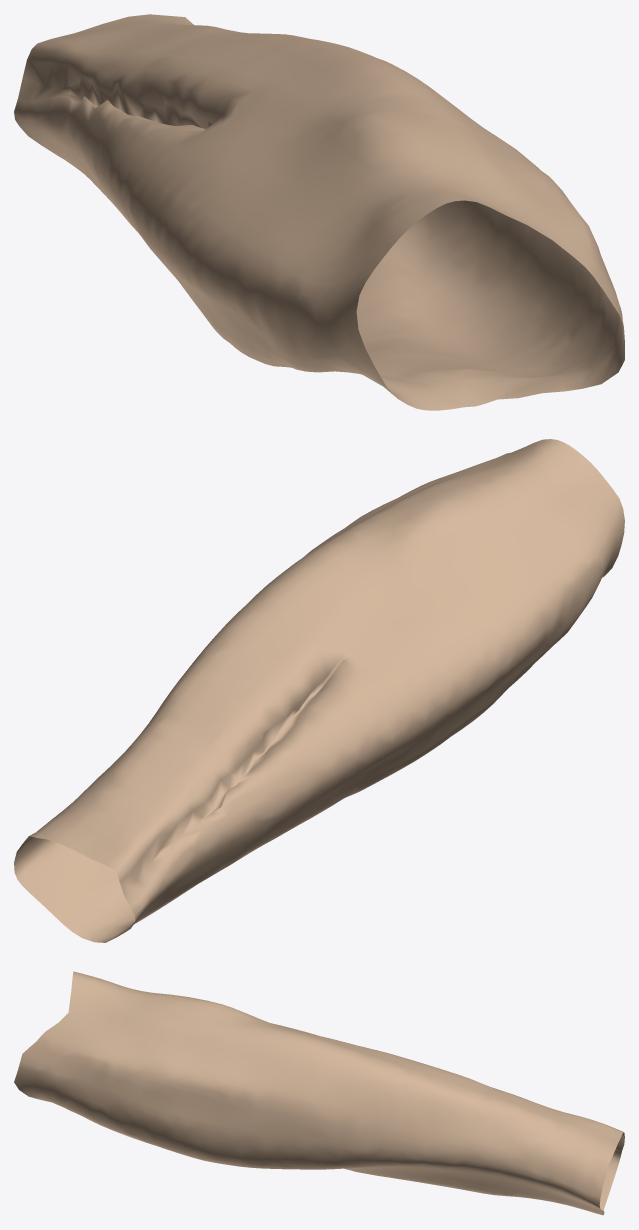
3 renders of one model, top to bottom at view 1: azimuth 30°, elevation 25°; view 2: azimuth 150°, elevation 25°; view 3: azimuth 270°, elevation 25°, orthographic. The views are drawn at different scales.
Visible parts, largest first — view 1: 左侧前臂筋膜; view 2: 左侧前臂筋膜; view 3: 左侧前臂筋膜.
Boxes of the visible parts, left/top/right/bottom form: 左侧前臂筋膜: left=14, top=14, right=624, bottom=410; 左侧前臂筋膜: left=14, top=439, right=624, bottom=942; 左侧前臂筋膜: left=14, top=971, right=624, bottom=1215.
Size of the model in its own units: 0.1549 by 0.151 by 0.4216.
